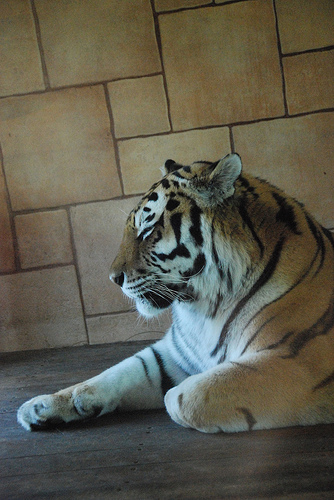Tigre: (93, 137, 328, 429)
